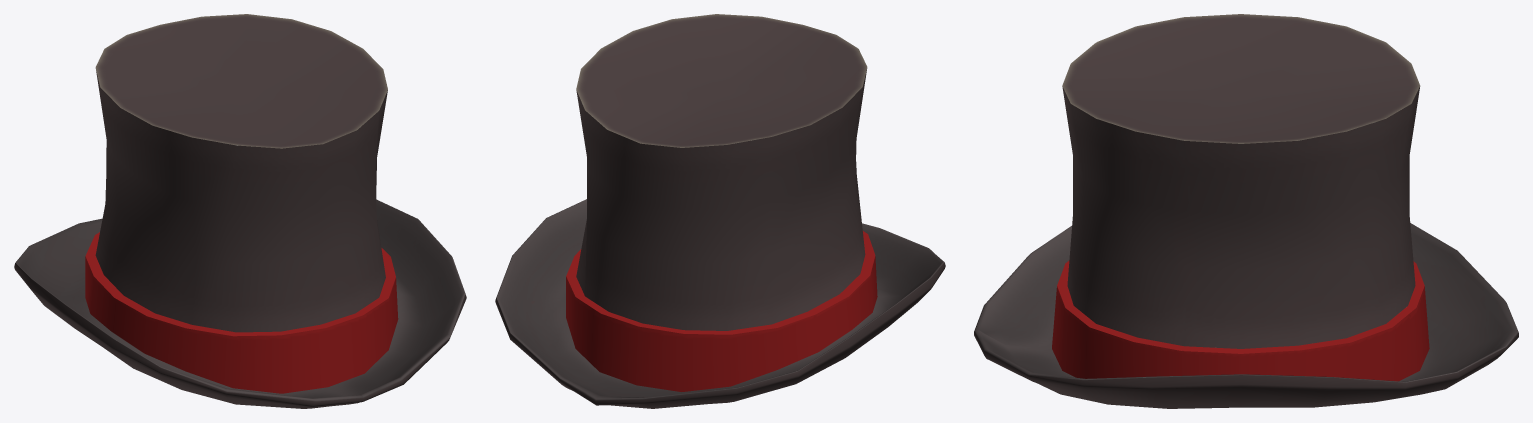
File: tophat.glb
3 views of the same model, side by side, from view 1: azimuth 30°, elevation 25°; view 2: azimuth 150°, elevation 25°; view 3: azimuth 270°, elevation 25° (orthographic). The views are drawn at different scales.
Visible parts, largest first — view 1: TopHatobjcleaner; view 2: TopHatobjcleaner; view 3: TopHatobjcleaner.
Boxes of the visible parts, x1,y1,x2,y2 form: TopHatobjcleaner: (14, 14, 466, 408); TopHatobjcleaner: (495, 14, 945, 408); TopHatobjcleaner: (974, 14, 1518, 408).
Bounding box in the file's own units: 6.79 × 4.64 × 8.22.
Materials: 1 (1 with a texture image).
